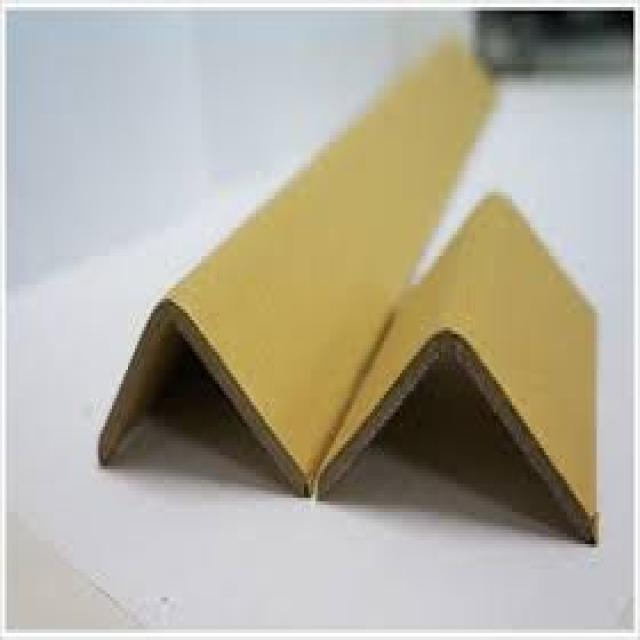Cardboard: (316, 195, 600, 539)
